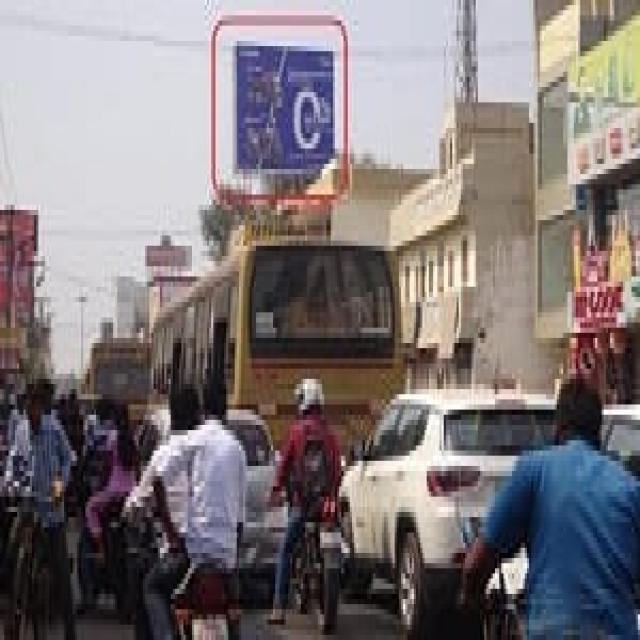Werbetafel frei: (232, 43, 332, 171)
